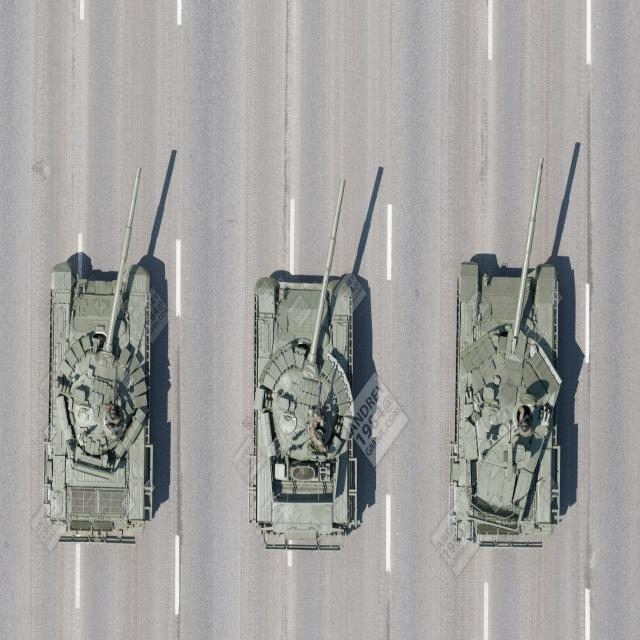tank: (36, 163, 164, 552), (451, 157, 574, 551), (245, 173, 369, 557)
